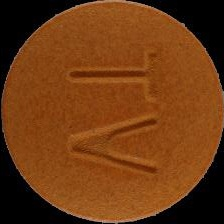0093-7692: (0, 0, 224, 224)
